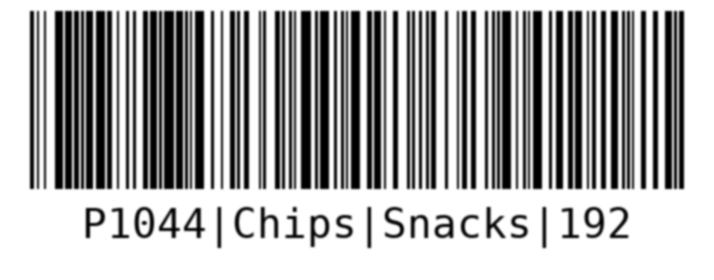milk: (29, 11, 686, 254)
